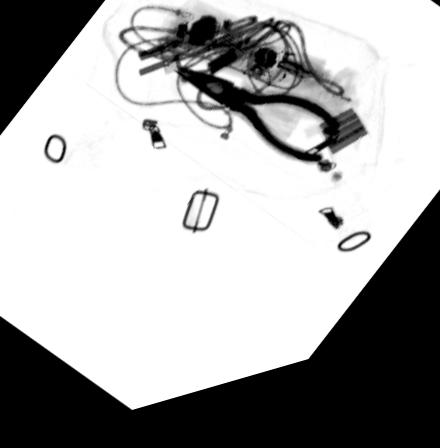Pliers: (175, 75, 342, 181)
